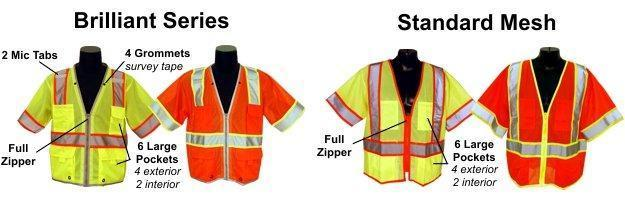vest: (470, 58, 624, 187), (153, 61, 306, 188), (327, 58, 476, 185), (19, 65, 161, 189)
